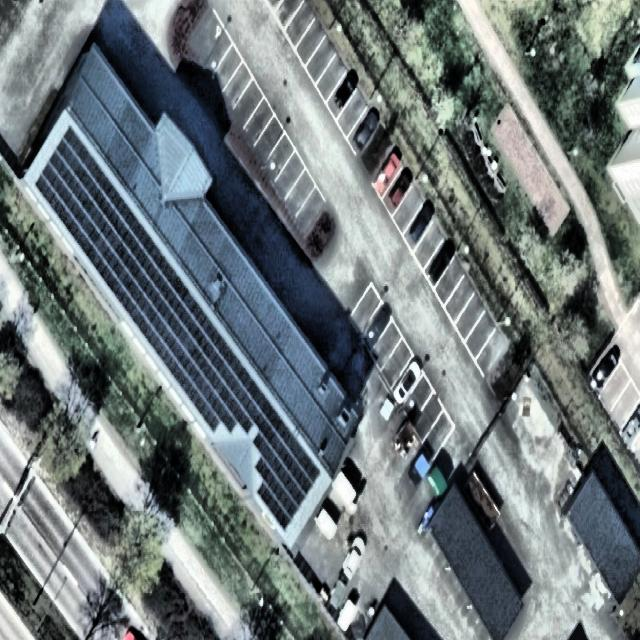roof_pv: (84, 193, 174, 325), (32, 122, 118, 250), (182, 316, 257, 434), (131, 281, 209, 367), (256, 379, 296, 532), (291, 439, 322, 518)
